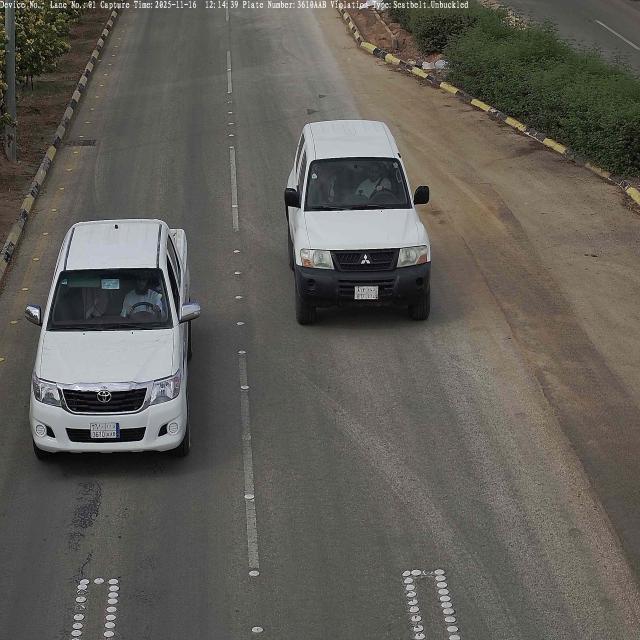person_with_seatbelt: (357, 162, 393, 197)
person_without_seatbelt: (122, 271, 162, 320)
